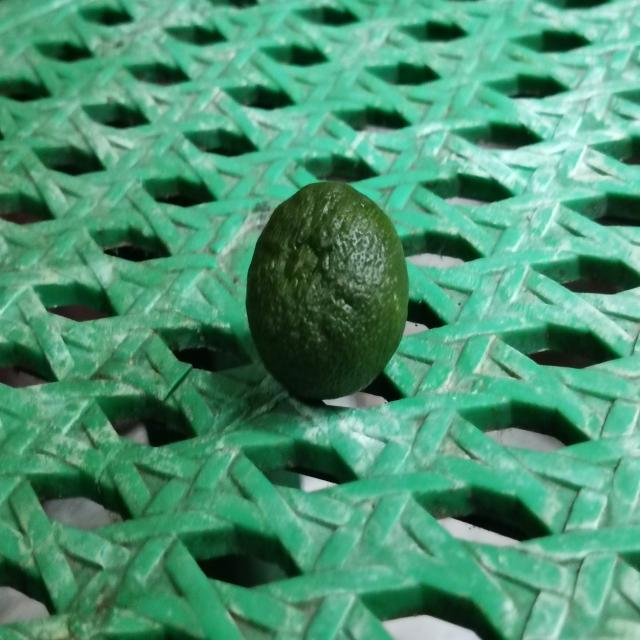heathy: (247, 178, 410, 399)
